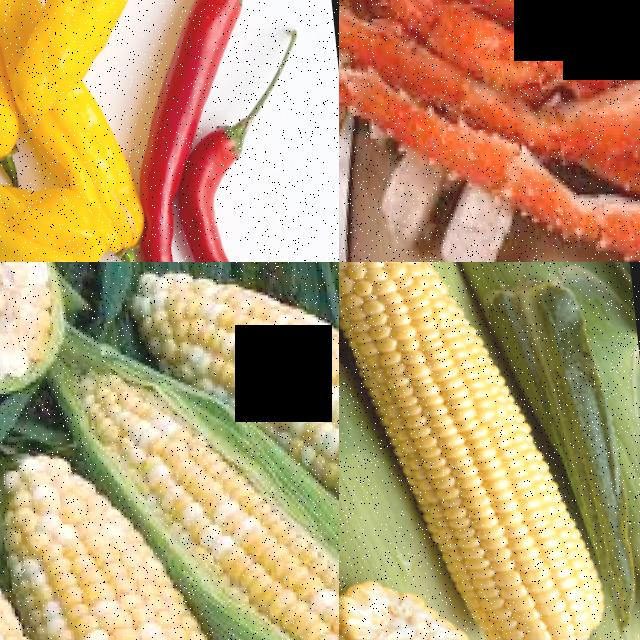chilli: (175, 103, 296, 262), (143, 0, 263, 142), (135, 151, 206, 262)
corn: (404, 383, 609, 640), (88, 353, 278, 603), (0, 438, 190, 640), (131, 262, 339, 421), (339, 262, 484, 440)
crab: (339, 0, 640, 262)
